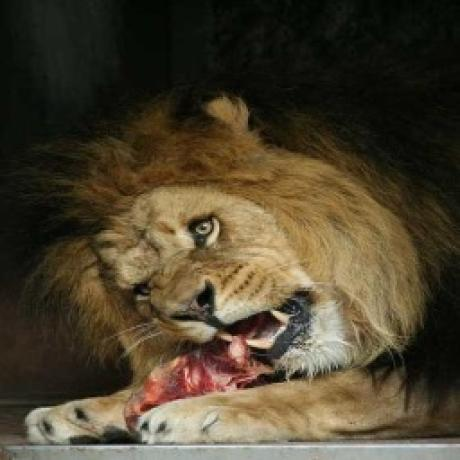Lion: (21, 54, 460, 448)
